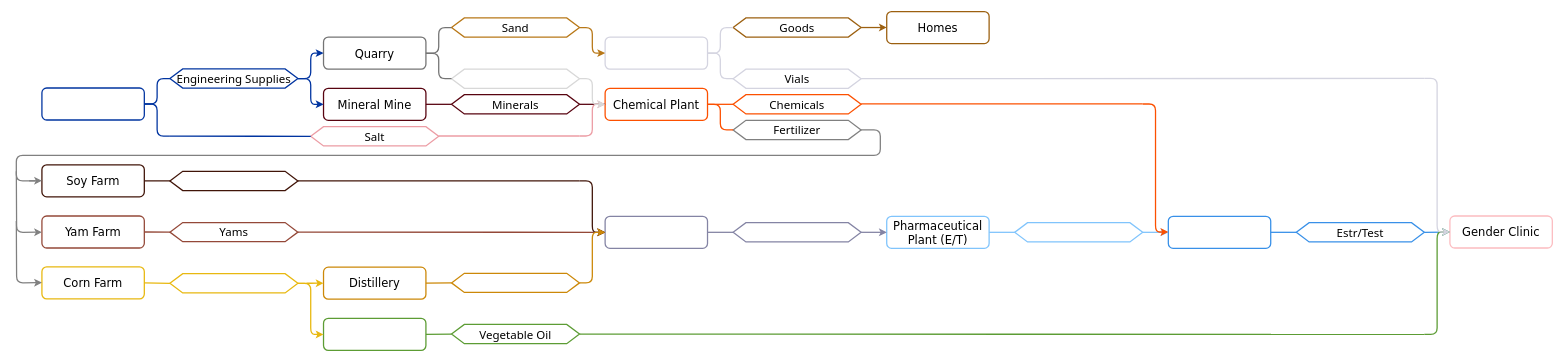
Some shapes in this 1564 by 362 pixel diagram are drawn without their labels. The centre of each missing label's shape, as x and y in pixels:
"Alcohol" goes at (x=515, y=282).
"Biolab" goes at (x=656, y=232).
"Corn" goes at (x=233, y=283).
"Diosgenin" goes at (x=796, y=232).
"Glassworks" goes at (x=656, y=52).
"Pharmacy" goes at (x=1219, y=232).
"Port" goes at (x=93, y=103).
"Potash" goes at (x=515, y=78).
"Processing Plant" goes at (x=374, y=334).
"Raw Estr/Test" goes at (x=1078, y=232).
"Soy" goes at (x=233, y=180).
